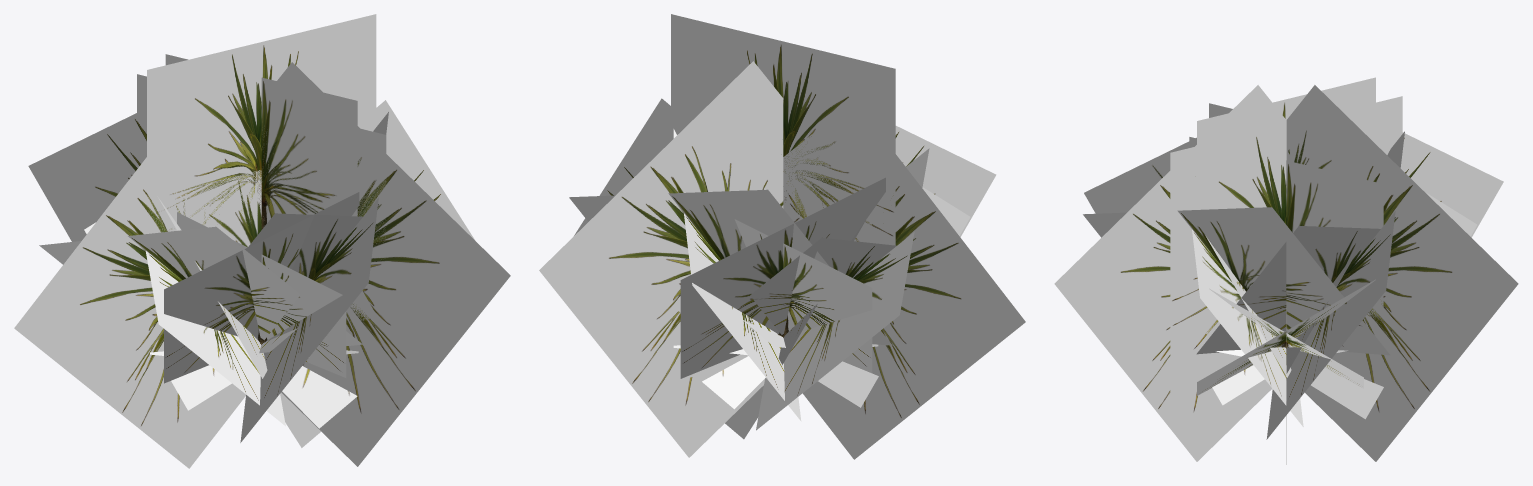
Rendered from Plant_03.FBX.
3 views of the same model, side by side, from view 1: azimuth 30°, elevation 25°; view 2: azimuth 150°, elevation 25°; view 3: azimuth 270°, elevation 25° (orthographic). The views are drawn at different scales.
Visible parts, largest first — view 1: Plane012; view 2: Plane012; view 3: Plane012.
Part boxes in pixels (x1,y1,x2,y2): Plane012: [14, 14, 510, 468]; Plane012: [539, 14, 1025, 459]; Plane012: [1054, 77, 1518, 464].
Bounding box in the file's own units: 109 × 89.32 × 96.99.
